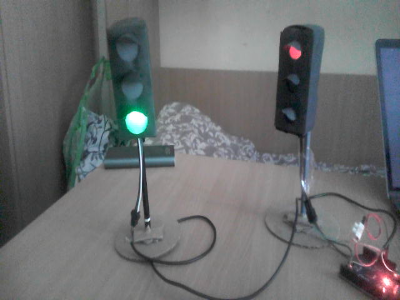trafficlight_green: (106, 24, 157, 136)
trafficlight_red: (274, 26, 315, 128)
